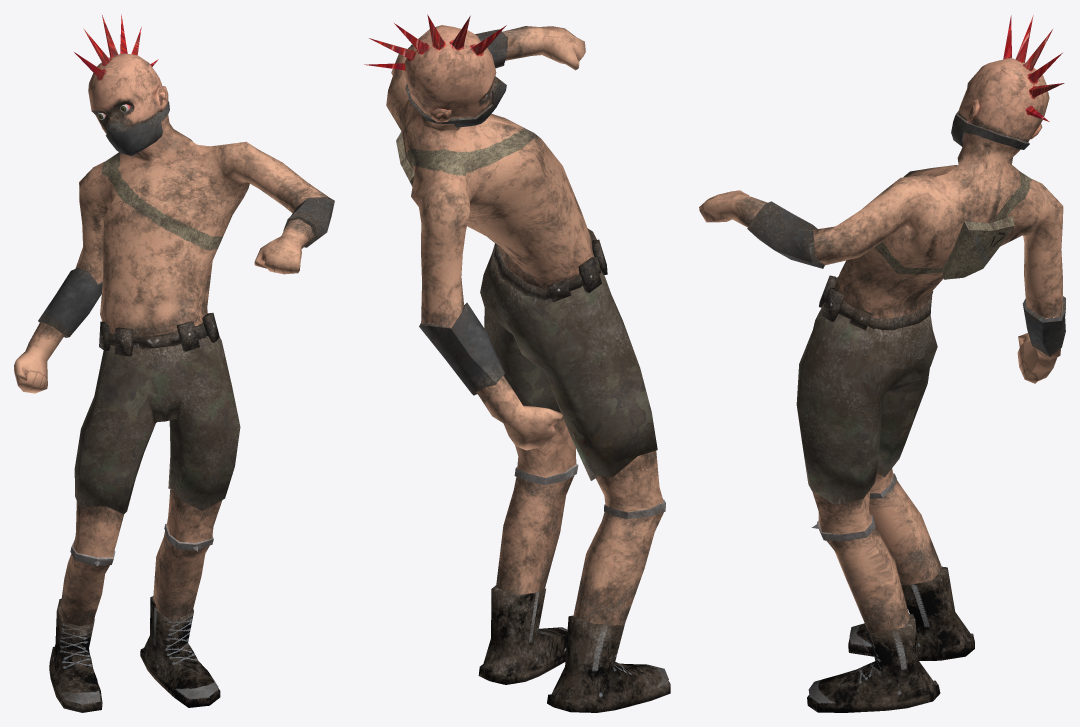
The model's file is Anim_recibirdanyo_1_npc2.0021.obj.
The picture shows the model from 3 angles, left to right: view 1: azimuth 30°, elevation 25°; view 2: azimuth 150°, elevation 25°; view 3: azimuth 270°, elevation 25°; orthographic projection. The views are drawn at different scales.
Visible parts, largest first — view 1: polySurface1; view 2: polySurface1; view 3: polySurface1.
Part boxes in pixels (x1,y1,x2,y2): polySurface1: (14, 14, 334, 712); polySurface1: (364, 14, 670, 712); polySurface1: (699, 15, 1065, 712).
Bounding box in the file's own units: 3.88 × 9.25 × 4.53.
2 materials, 2 textured.
